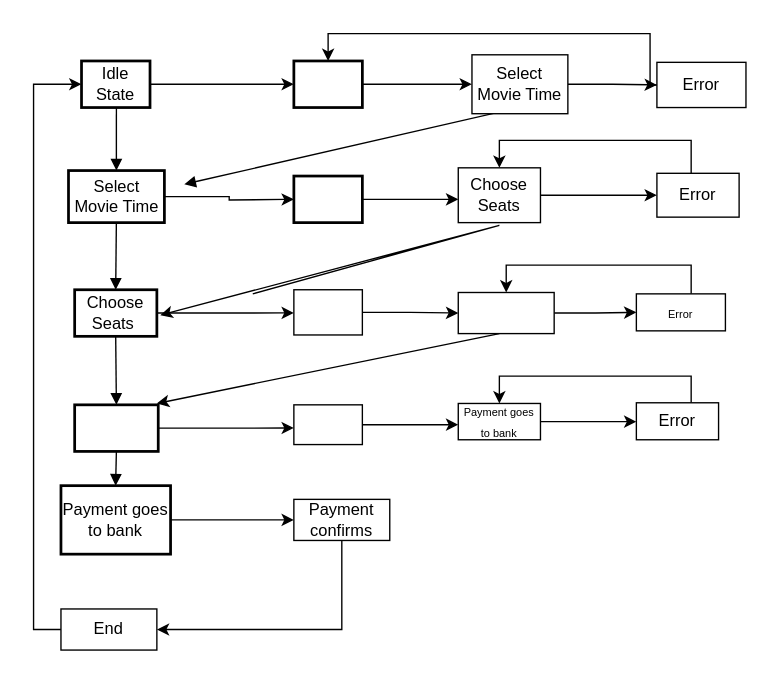
This 770x674 diagram has some shape labels left out. The centre of each missing label's shape, as x and y in pixels:
Confirm Payment: the point at 327,424
Confirm Seat: the point at 327,311
Confirm Selection: the point at 327,198
Select Movie: the point at 327,83
Select Payment: the point at 116,427
Select Payment Method: the point at 505,312
